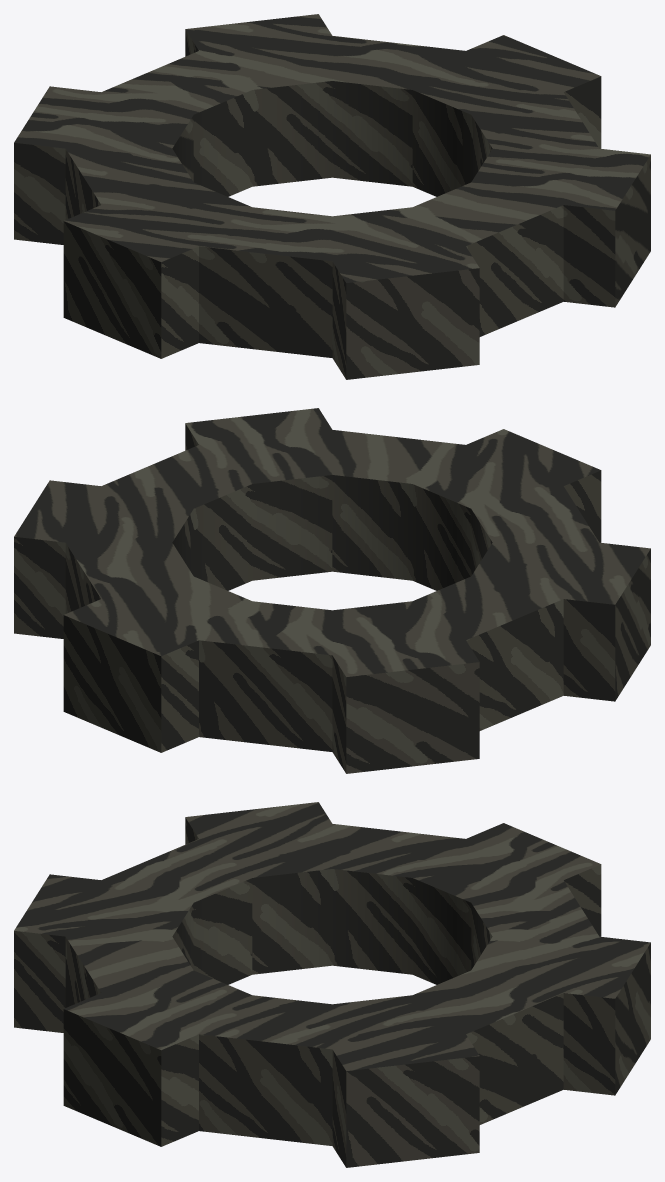
File: junk_gear.fbx
3 views of the same model, one above another, from view 1: azimuth 30°, elevation 25°; view 2: azimuth 150°, elevation 25°; view 3: azimuth 270°, elevation 25° (orthographic).
Visible parts, largest first — view 1: cog_smallBasic; view 2: cog_smallBasic; view 3: cog_smallBasic.
Part boxes in pixels (x1,y1,x2,y2): cog_smallBasic: (14, 14, 650, 379); cog_smallBasic: (14, 408, 650, 773); cog_smallBasic: (14, 802, 650, 1167).
Size of the model in its own units: 17.9 by 3 by 17.9.
